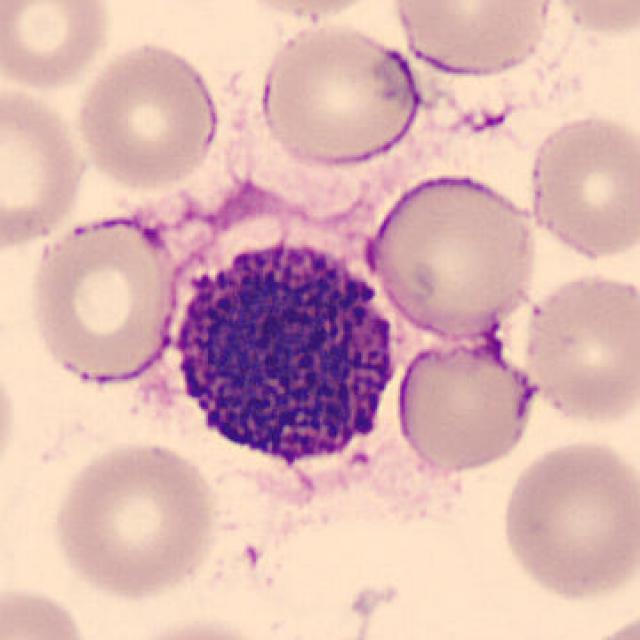Basophil: (138, 224, 410, 509)
RBC: (364, 167, 542, 344), (21, 204, 185, 388), (46, 437, 222, 601), (254, 18, 427, 171), (496, 434, 638, 606), (71, 37, 224, 192), (393, 339, 542, 476), (518, 265, 638, 430), (523, 108, 638, 266), (0, 79, 89, 254), (385, 0, 556, 79), (0, 0, 116, 92), (0, 580, 96, 640), (112, 615, 281, 640), (224, 0, 389, 25), (542, 0, 640, 41), (0, 350, 21, 490), (572, 608, 640, 640)
